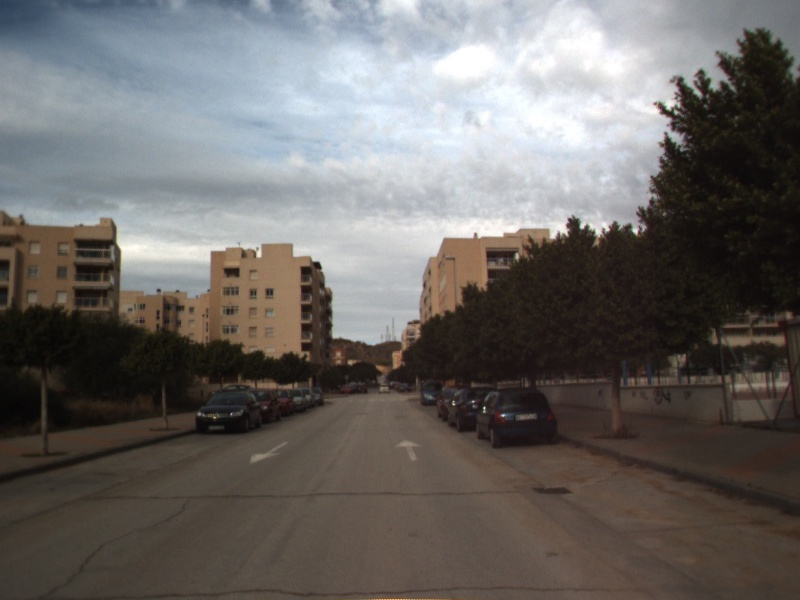STRAIGHT: (392, 437, 424, 462)
